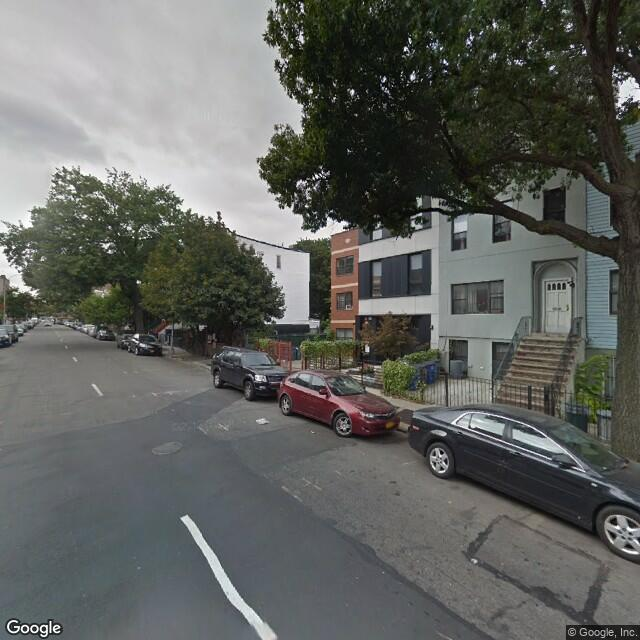litter: (245, 414, 281, 426)
